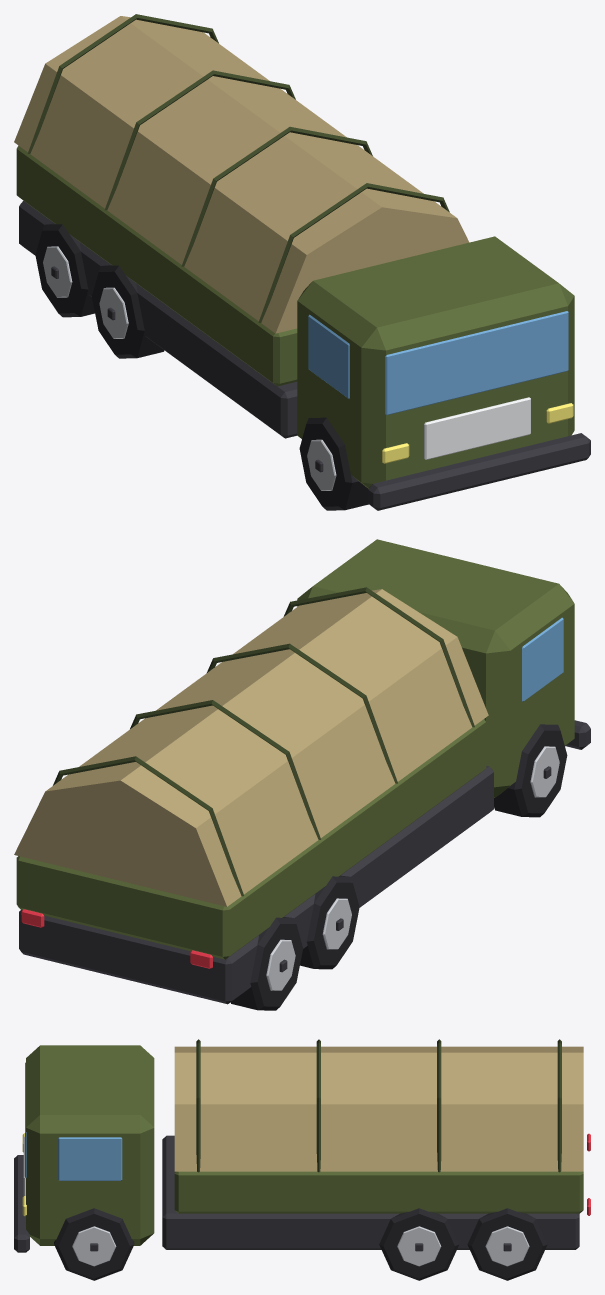
Rendered from MilitaryTruck.fbx.
3 renders of one model, top to bottom at view 1: azimuth 30°, elevation 25°; view 2: azimuth 150°, elevation 25°; view 3: azimuth 270°, elevation 25°, orthographic. The views are drawn at different scales.
Visible parts, largest first — view 1: MilitaryTruck, MilitaryTruck_WheelFR, MilitaryTruck_WheelMR, MilitaryTruck_WheelBR; view 2: MilitaryTruck, MilitaryTruck_WheelFR, MilitaryTruck_WheelBR, MilitaryTruck_WheelMR; view 3: MilitaryTruck, MilitaryTruck_WheelML, MilitaryTruck_WheelBL, MilitaryTruck_WheelFL.
Boxes of the visible parts, box(x1,y1,x2,y2) form: MilitaryTruck: box(14, 14, 590, 510); MilitaryTruck_WheelFR: box(299, 417, 368, 510); MilitaryTruck_WheelMR: box(92, 265, 164, 358); MilitaryTruck_WheelBR: box(35, 223, 94, 317); MilitaryTruck: box(14, 539, 590, 1004); MilitaryTruck_WheelFR: box(494, 724, 567, 817); MilitaryTruck_WheelBR: box(230, 917, 303, 1010); MilitaryTruck_WheelMR: box(300, 875, 359, 969); MilitaryTruck: box(14, 1039, 590, 1252); MilitaryTruck_WheelML: box(379, 1208, 459, 1280); MilitaryTruck_WheelBL: box(467, 1208, 547, 1280); MilitaryTruck_WheelFL: box(54, 1208, 134, 1280).
Bounding box in the file's own units: 5.22 × 5.44 × 14.38.
Materials: 1 (1 with a texture image).
